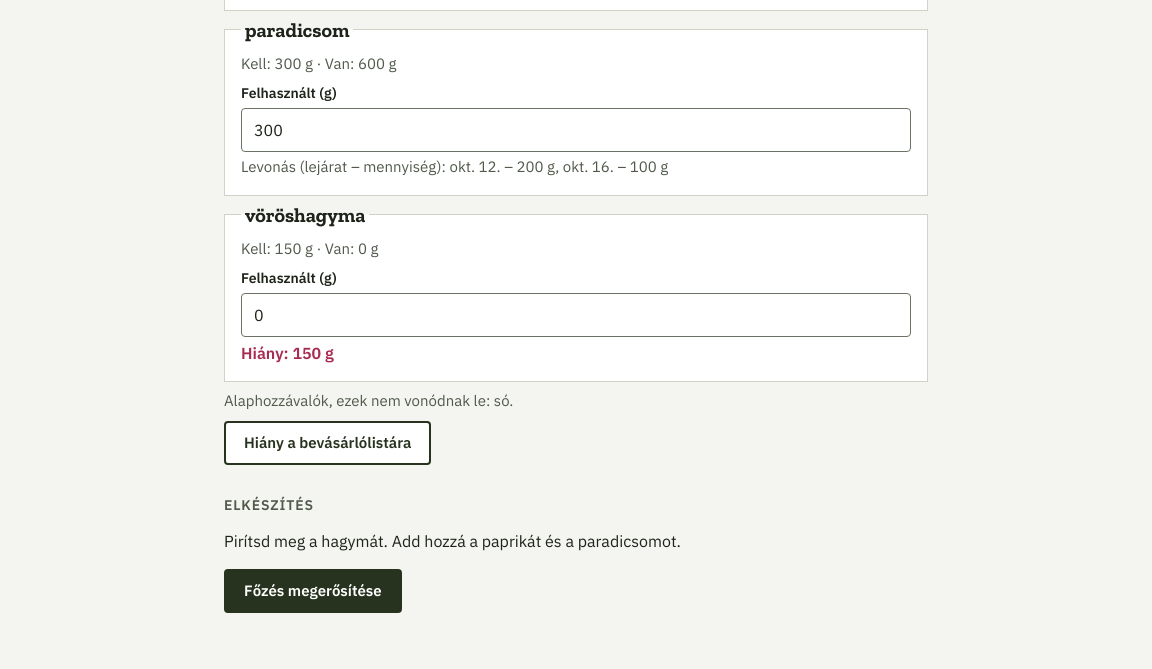
Test: cooking › sends one request even when the button is clicked twice
(page scrolled)
Click the button "Főzés megerősítése" at x=313, y=592, box x1=224 y1=570 x2=402 y2=614
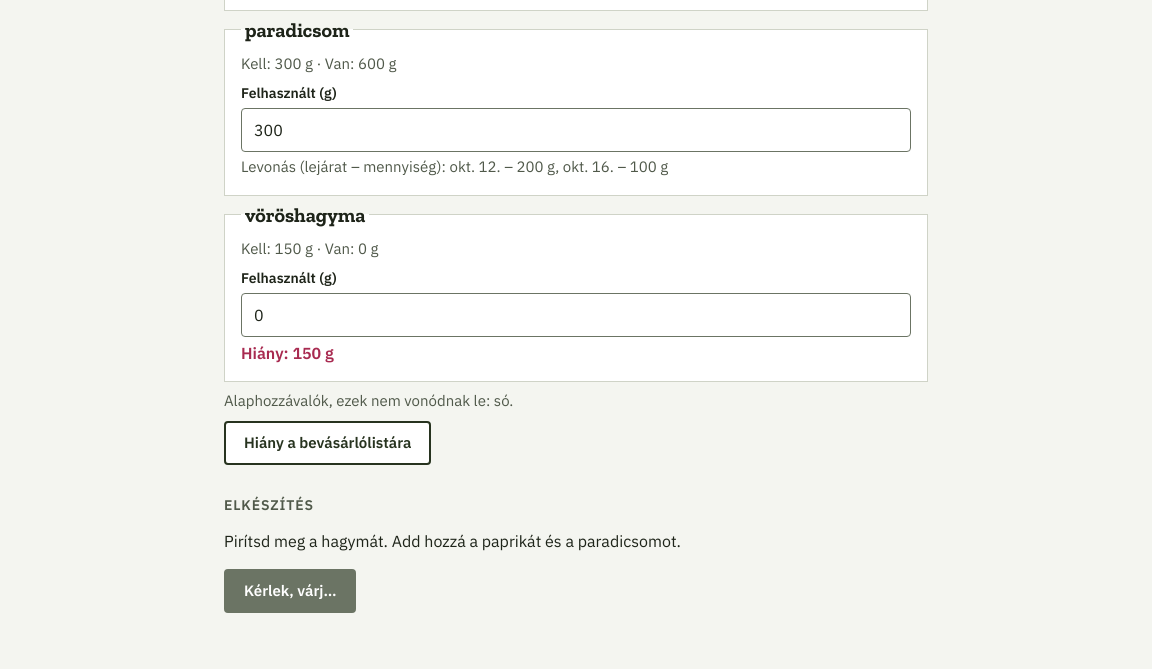
Click the button named "Főzés megerősítése" at x=290, y=592, box x1=224 y1=570 x2=356 y2=614
(page scrolled)
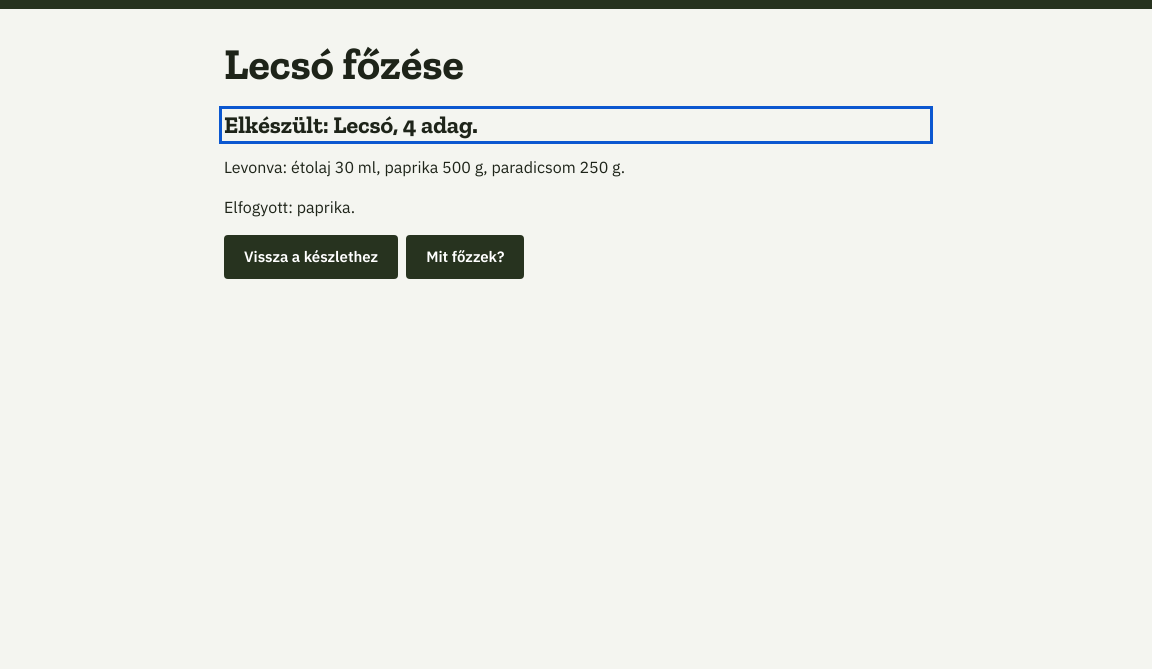
expect the heading "Elkészült: Lecsó, 4 adag." is shown: met, box x1=224 y1=110 x2=478 y2=139
